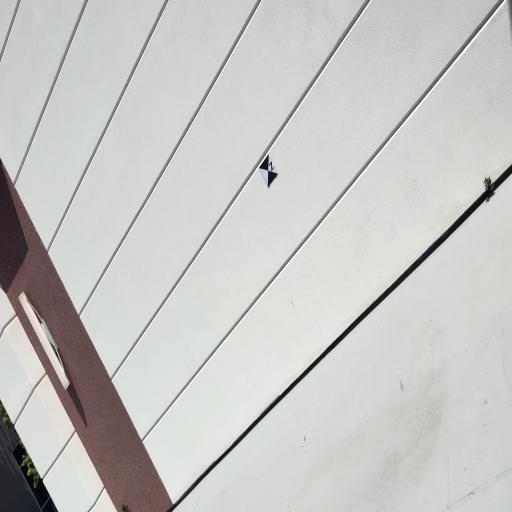target7: (259, 154, 279, 188)
